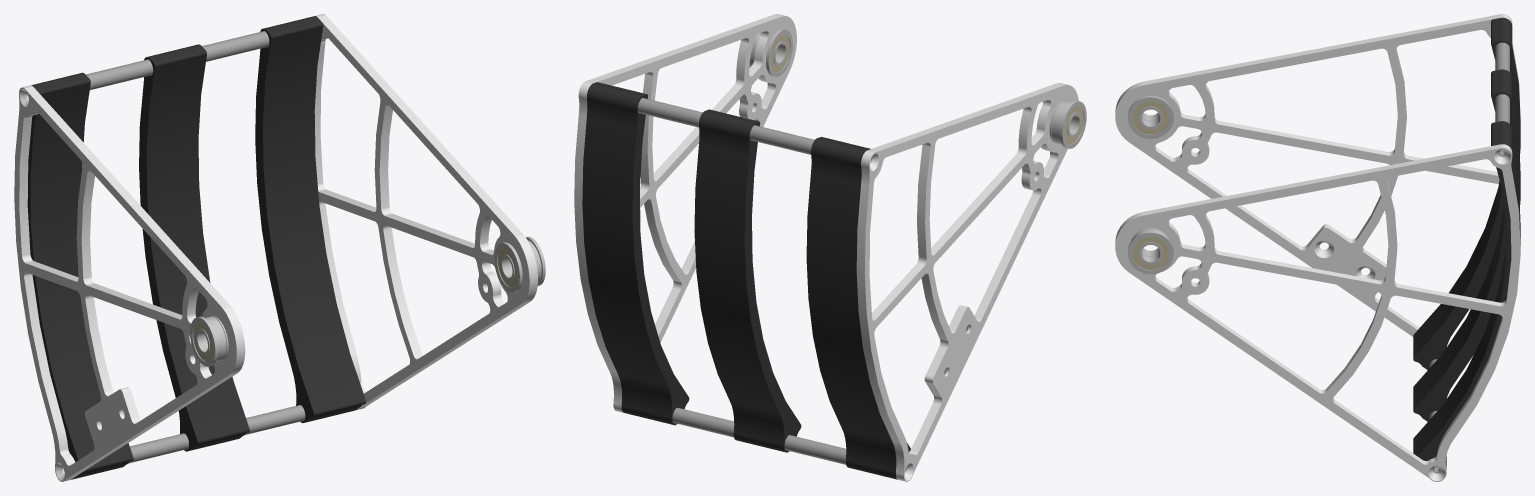
3 views of the same model, side by side, from view 1: azimuth 30°, elevation 25°; view 2: azimuth 150°, elevation 25°; view 3: azimuth 270°, elevation 25° (orthographic). The views are drawn at different scales.
Parts seen in each view (by area): view 1: hood backing print (×3), lead screw hood plate, hood plate, hood standoff (×2), 3/8" Rounded Hex (10.25mm) ID Bearing (0.875" OD, 0.281" WD, (×2); view 2: hood backing print (×3), lead screw hood plate, hood plate, hood standoff (×2), 3/8" Rounded Hex (10.25mm) ID Bearing (0.875" OD, 0.281" WD, (×2); view 3: hood plate, lead screw hood plate, hood backing print (×3), 3/8" Rounded Hex (10.25mm) ID Bearing (0.875" OD, 0.281" WD, (×2), hood standoff.
Boxes of the visible parts, box(x1,y1,x2,y2) form: hood backing print (×3): box(27, 16, 365, 479); lead screw hood plate: box(14, 85, 245, 481); hood plate: box(314, 14, 537, 410); hood standoff (×2): box(86, 31, 305, 463); 3/8" Rounded Hex (10.25mm) ID Bearing (0.875" OD, 0.281" WD, (×2): box(190, 242, 522, 366); hood backing print (×3): box(582, 82, 910, 479); lead screw hood plate: box(856, 83, 1078, 481); hood plate: box(574, 14, 796, 412); hood standoff (×2): box(638, 97, 846, 464); 3/8" Rounded Hex (10.25mm) ID Bearing (0.875" OD, 0.281" WD, (×2): box(766, 29, 1086, 148); hood plate: box(1115, 144, 1520, 481); lead screw hood plate: box(1115, 14, 1520, 336); hood backing print (×3): box(1413, 17, 1520, 467); 3/8" Rounded Hex (10.25mm) ID Bearing (0.875" OD, 0.281" WD, (×2): box(1128, 96, 1173, 274); hood standoff: box(1495, 42, 1509, 156).
Size of the model in its own units: 0.1859 by 0.1972 by 0.2169.
